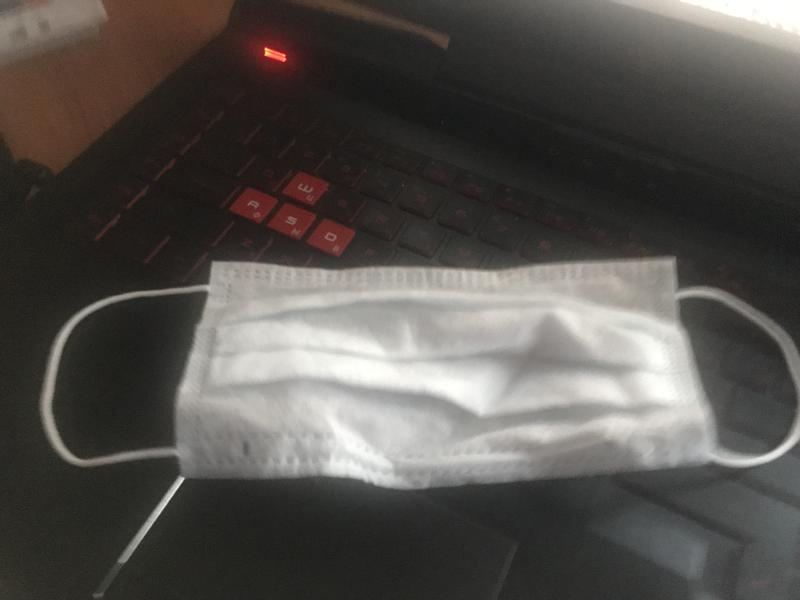medical_mask: (39, 259, 800, 481)
